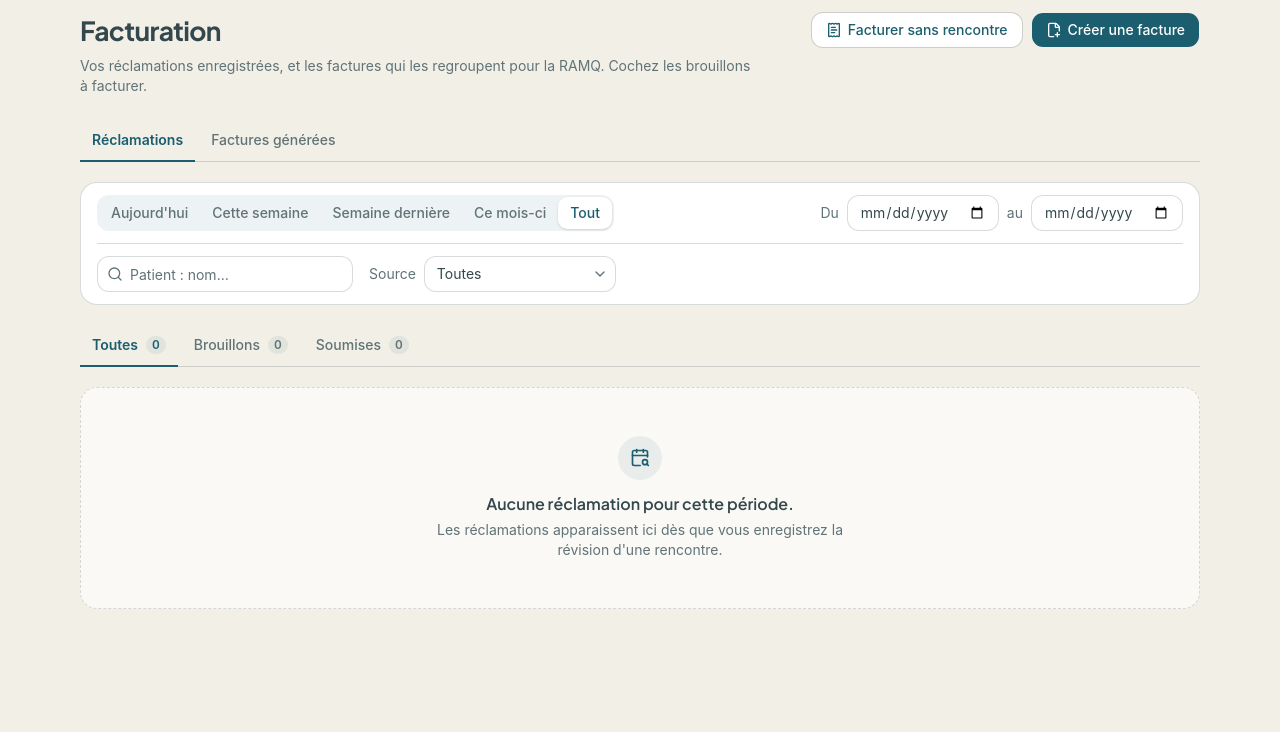
Test: generated bills tab › lists the bills with period, count, total and a PDF link
Click the tab "Factures générées" at (273, 141), box x1=199 y1=120 x2=348 y2=162
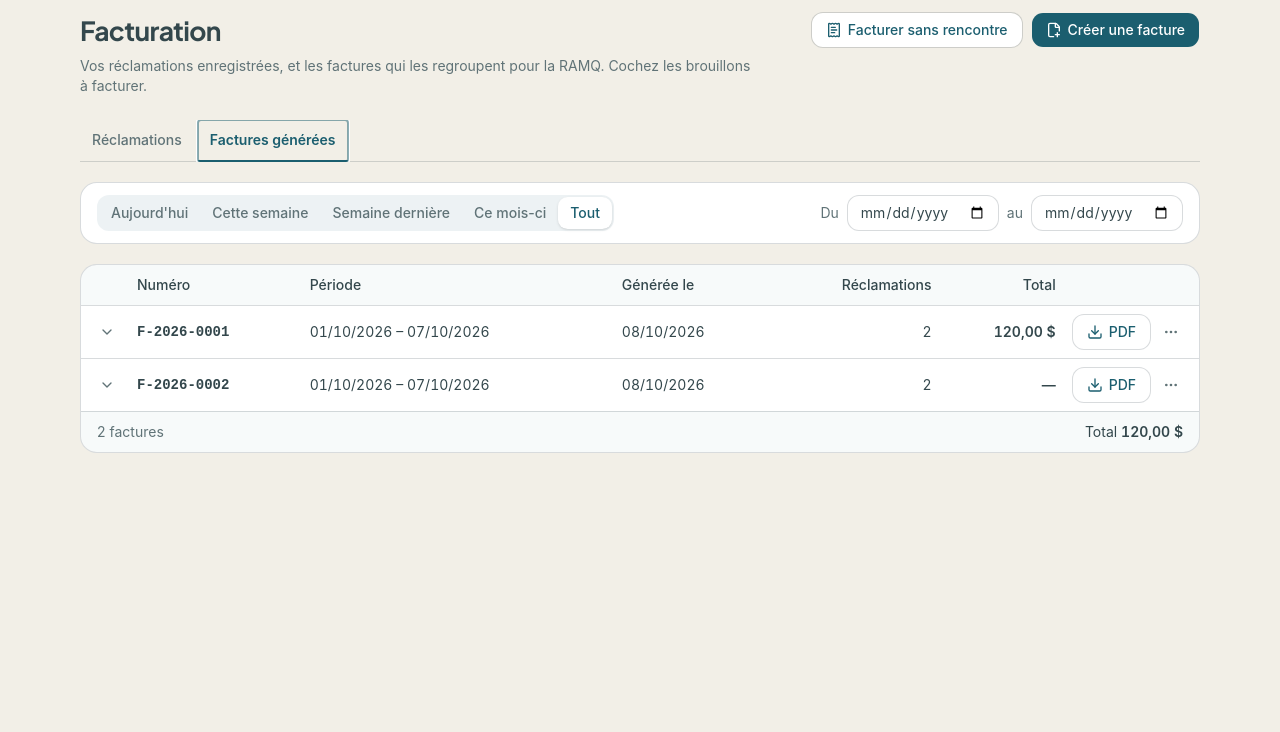
Expected: the text "01/10/2026 – 07/10/2026" next to "F-2026-0001" is shown, x1=302 y1=305 x2=614 y2=358
Expected: the text "08/10/2026" in the row of "F-2026-0001" is shown, x1=622 y1=322 x2=704 y2=340
Expected: the text "120,00 $" is shown, x1=940 y1=305 x2=1064 y2=358
